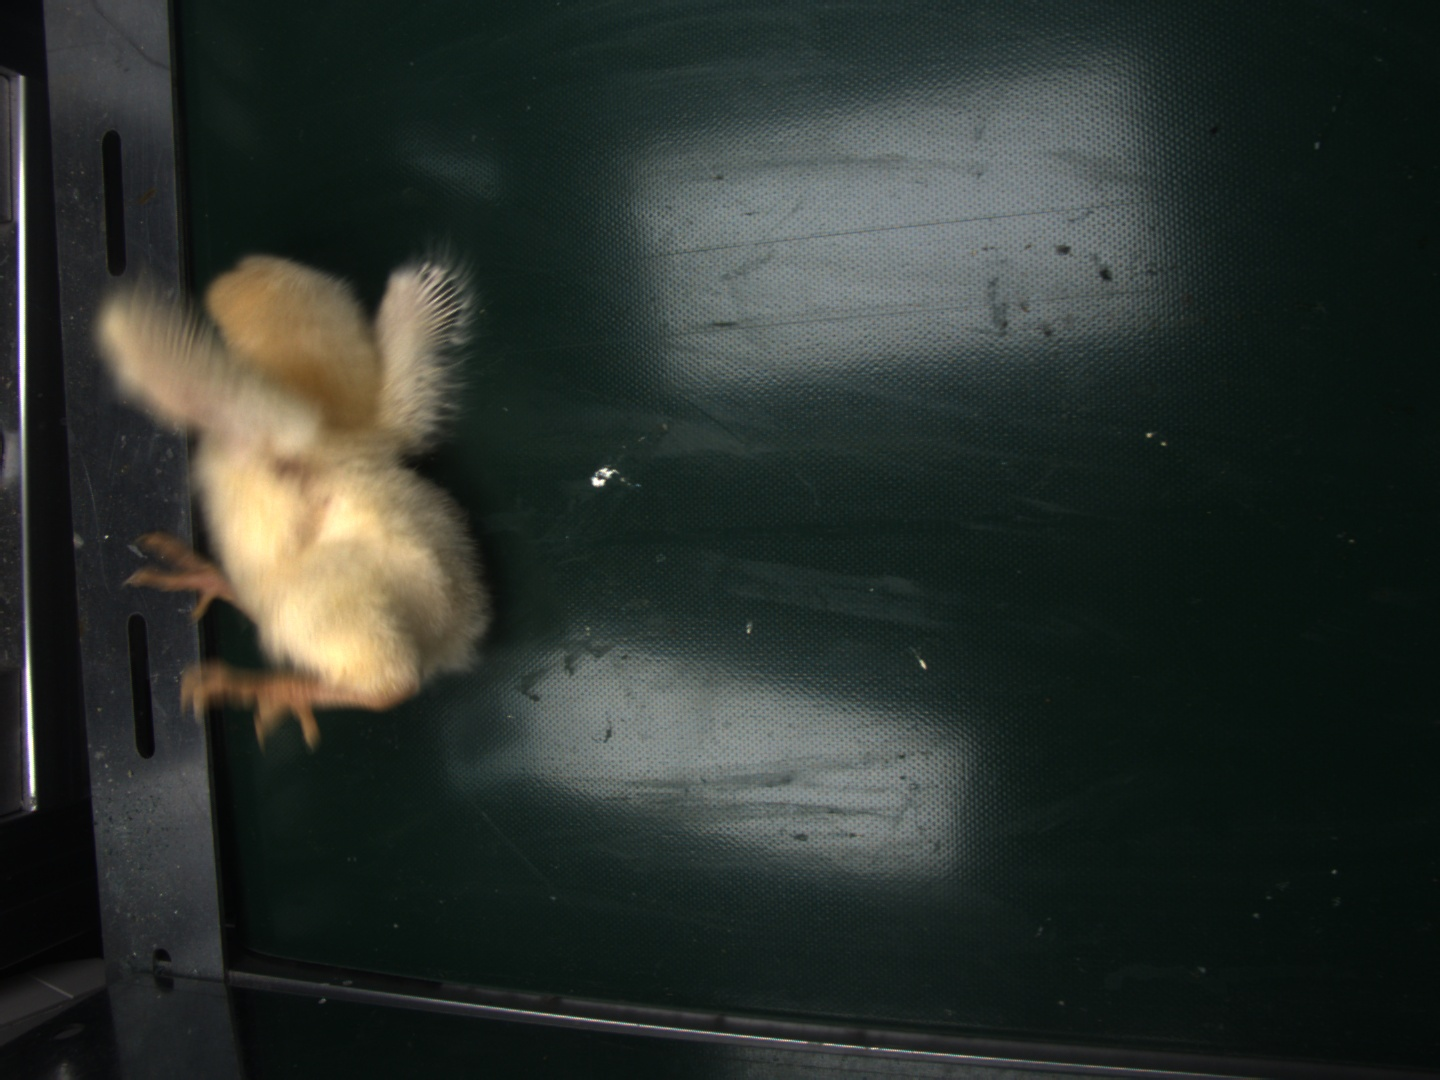male: (410, 258, 465, 341)
